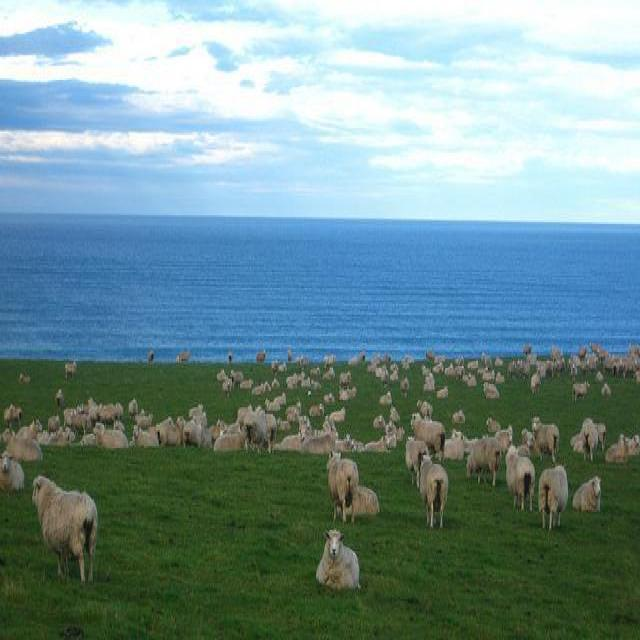Sheep: (12, 332, 639, 494), (32, 475, 98, 583), (316, 530, 363, 590)
